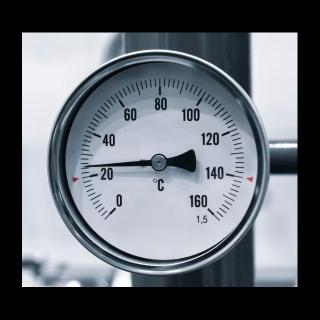gauge: (46, 47, 270, 277), (185, 192, 222, 225), (100, 192, 130, 223), (150, 152, 168, 172), (81, 162, 93, 170)
